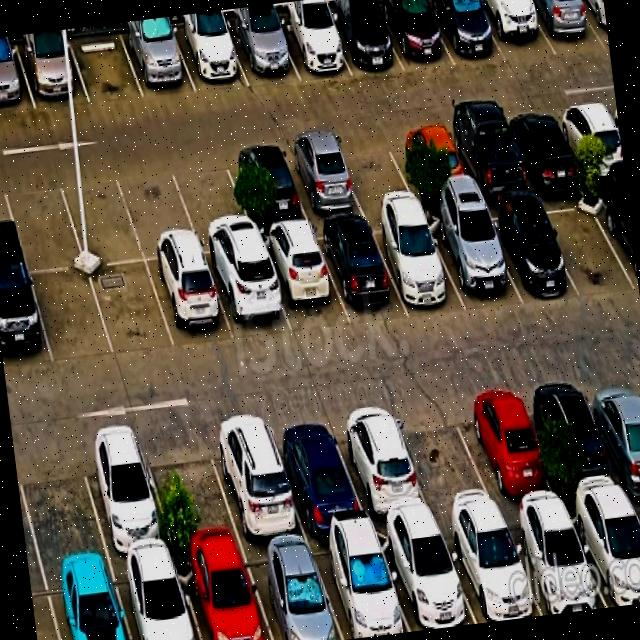empty: (387, 391, 500, 523), (139, 425, 242, 554), (13, 436, 108, 570), (535, 187, 637, 293), (168, 151, 257, 254), (56, 166, 144, 266), (116, 160, 201, 260), (0, 172, 84, 271), (89, 261, 175, 357), (30, 269, 114, 364), (331, 132, 416, 211), (68, 30, 143, 102)
occupied: (454, 383, 561, 513), (204, 411, 306, 545), (328, 402, 435, 526), (266, 410, 369, 536), (527, 375, 627, 504), (75, 430, 174, 560), (502, 508, 607, 615), (439, 515, 542, 623), (309, 532, 409, 640), (375, 526, 476, 631), (477, 200, 577, 303), (423, 208, 522, 311), (257, 226, 349, 335), (241, 542, 343, 640), (313, 219, 407, 324), (368, 214, 465, 313), (175, 548, 272, 640), (146, 255, 234, 349), (566, 496, 640, 607), (204, 249, 291, 340), (442, 116, 532, 200), (111, 556, 200, 640), (223, 144, 309, 230), (581, 370, 640, 495), (280, 138, 364, 220), (388, 124, 474, 202), (44, 563, 130, 640), (502, 107, 584, 187), (324, 2, 403, 75), (376, 0, 454, 72), (553, 101, 625, 178), (120, 26, 196, 98), (170, 23, 249, 92), (15, 36, 89, 109), (0, 269, 52, 371), (273, 12, 351, 80), (475, 0, 556, 63), (591, 183, 639, 289), (427, 0, 505, 65), (226, 18, 299, 85), (526, 0, 605, 55), (0, 43, 35, 113), (579, 0, 609, 48)
